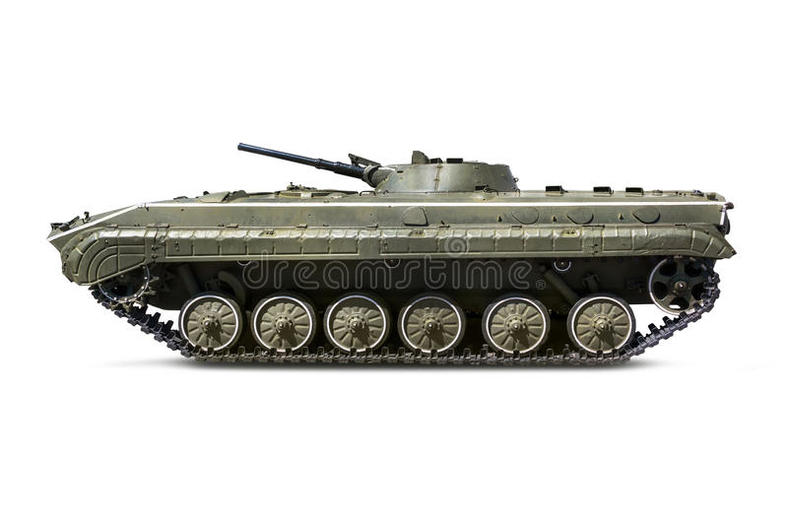bmp: (51, 145, 732, 367)
